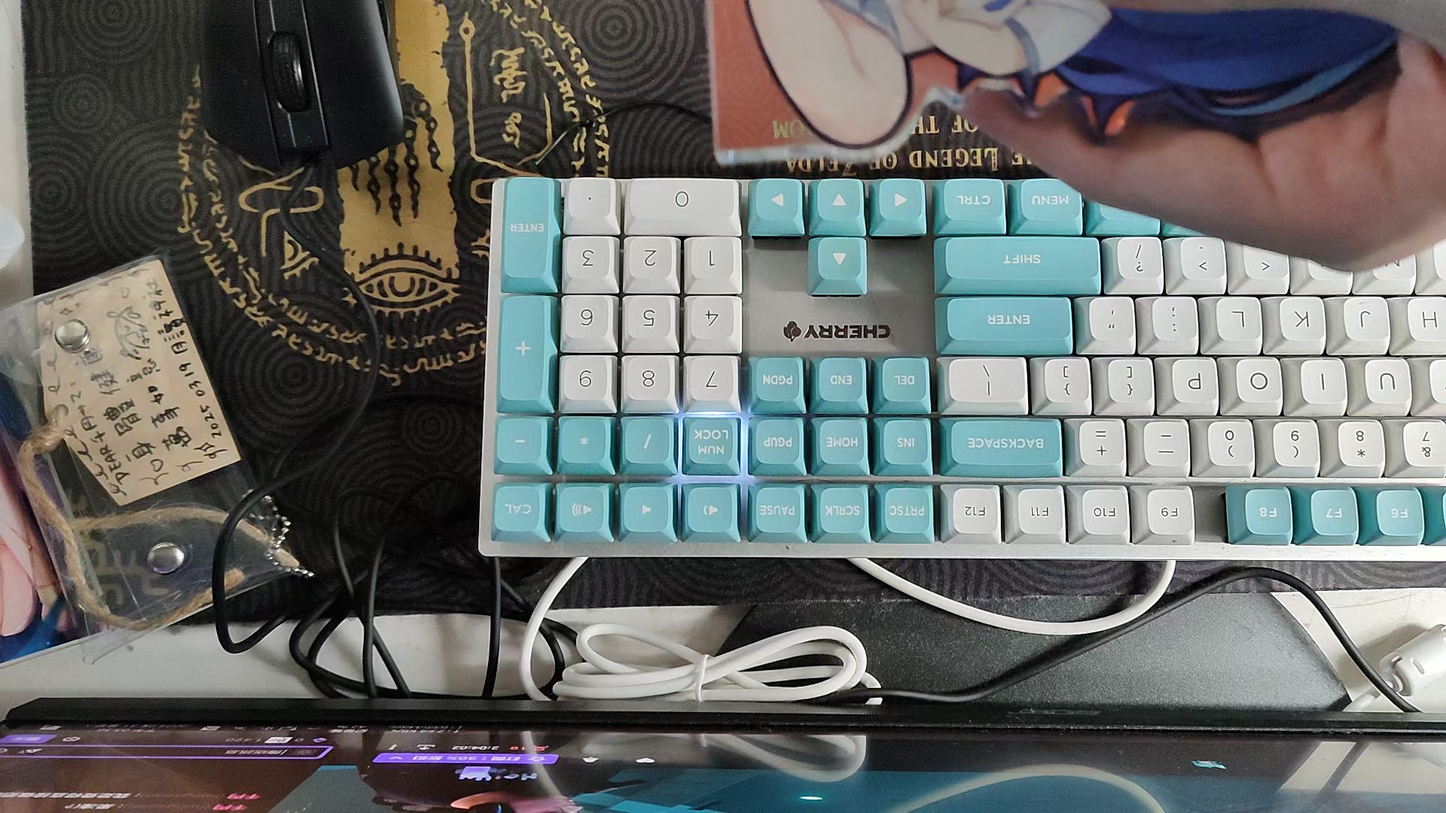Yanami-anna: (707, 0, 1446, 170)
